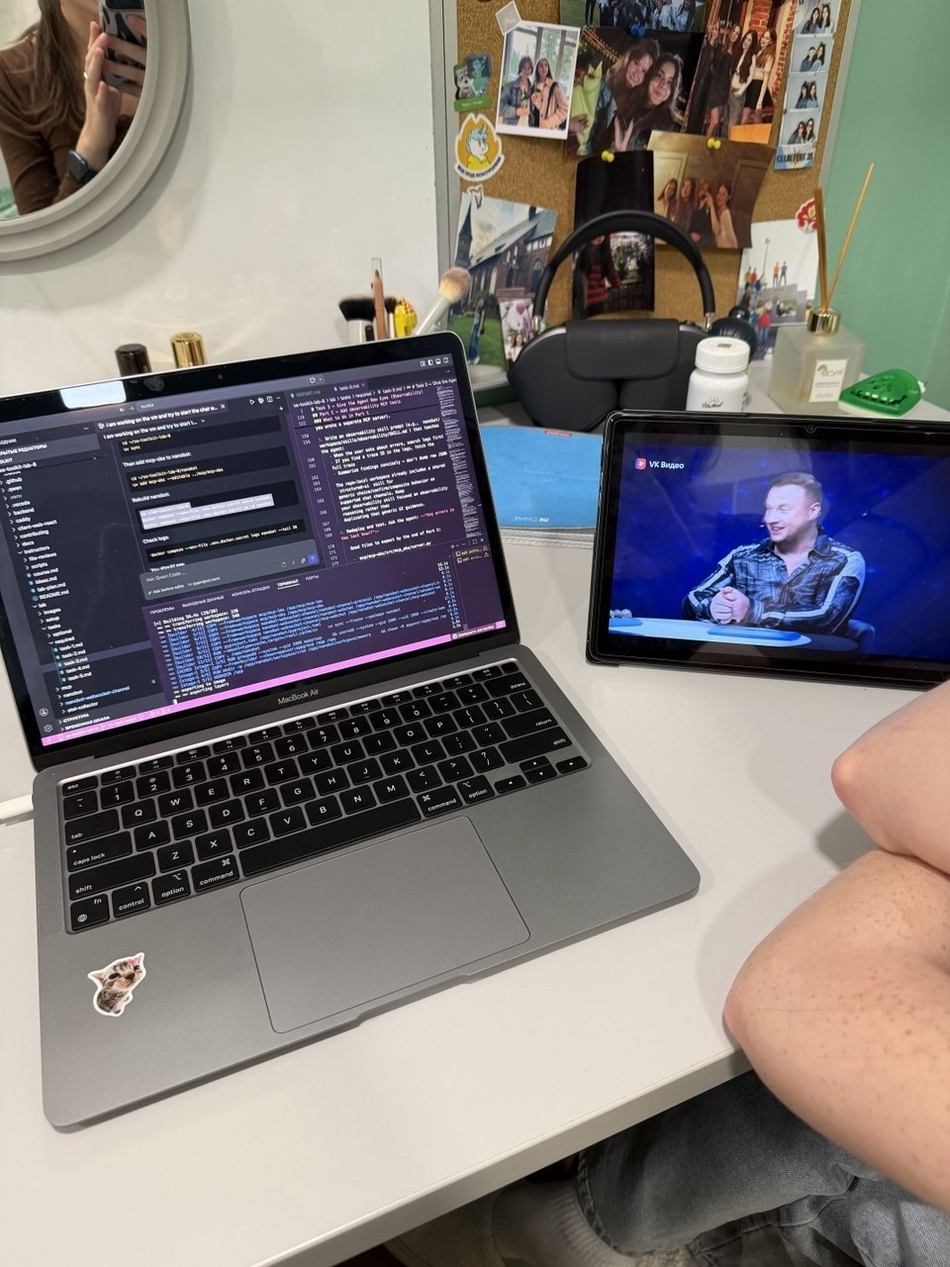cell phone: (99, 0, 147, 97)
laptop: (0, 330, 701, 1130)
